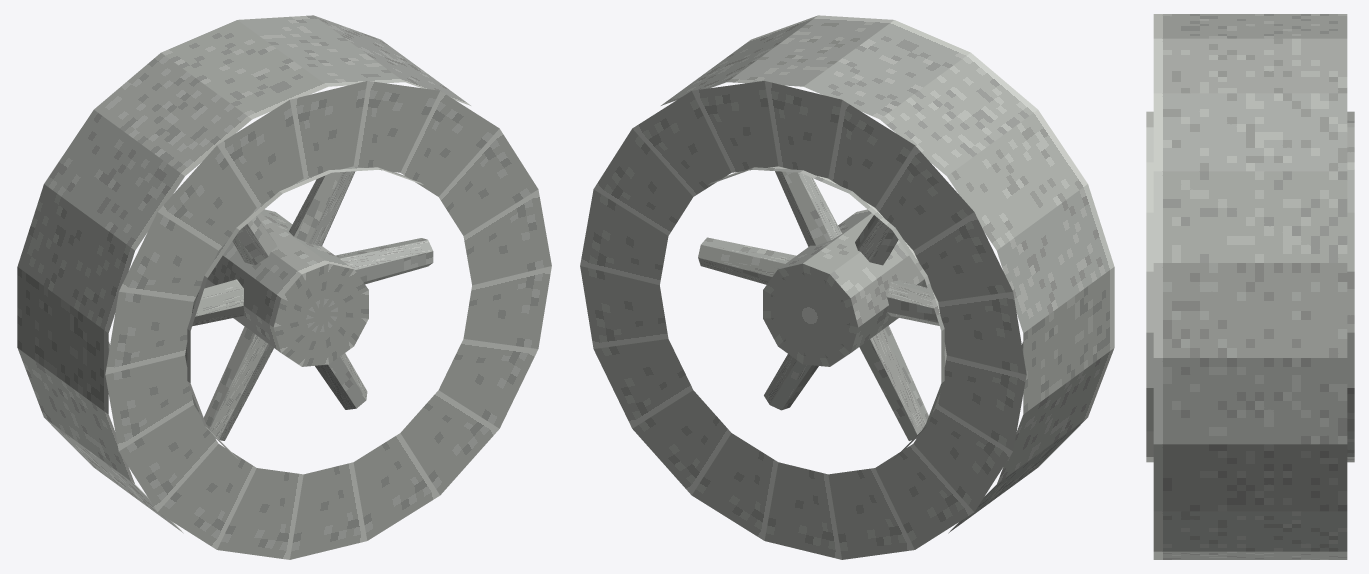
Rendered from wheel_metal.glb.
3 renders of one model, left to right at view 1: azimuth 30°, elevation 25°; view 2: azimuth 150°, elevation 25°; view 3: azimuth 270°, elevation 25°, orthographic. The views are drawn at different scales.
Parts seen in each view (by area): view 1: block_tire sidewall (×18), block_outer tire, block_hub, block_spoke (×6), block_rim wall; view 2: block_tire sidewall (×18), block_outer tire, block_hub, block_spoke (×6), block_rim wall; view 3: block_outer tire, block_rim wall (×2).
Boxes of the visible parts, box(x1,y1,x2,y2) form: block_tire sidewall (×18): box(105, 81, 551, 559); block_outer tire: box(17, 15, 470, 533); block_hub: box(204, 209, 368, 366); block_spoke (×6): box(192, 171, 433, 440); block_rim wall: box(185, 166, 423, 459); block_tire sidewall (×18): box(580, 81, 1026, 559); block_outer tire: box(661, 15, 1114, 533); block_hub: box(763, 209, 927, 366); block_spoke (×6): box(698, 171, 939, 440); block_rim wall: box(708, 166, 946, 459); block_outer tire: box(1153, 14, 1347, 559); block_rim wall (×2): box(1146, 111, 1354, 462).
Bounding box in the file's own units: 0.508 × 0.508 × 0.1929.
1 material, 1 textured.
